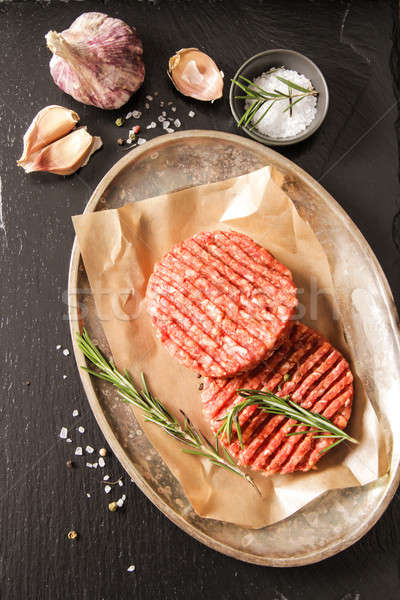ground_beef: (199, 308, 357, 472), (145, 230, 286, 373)
